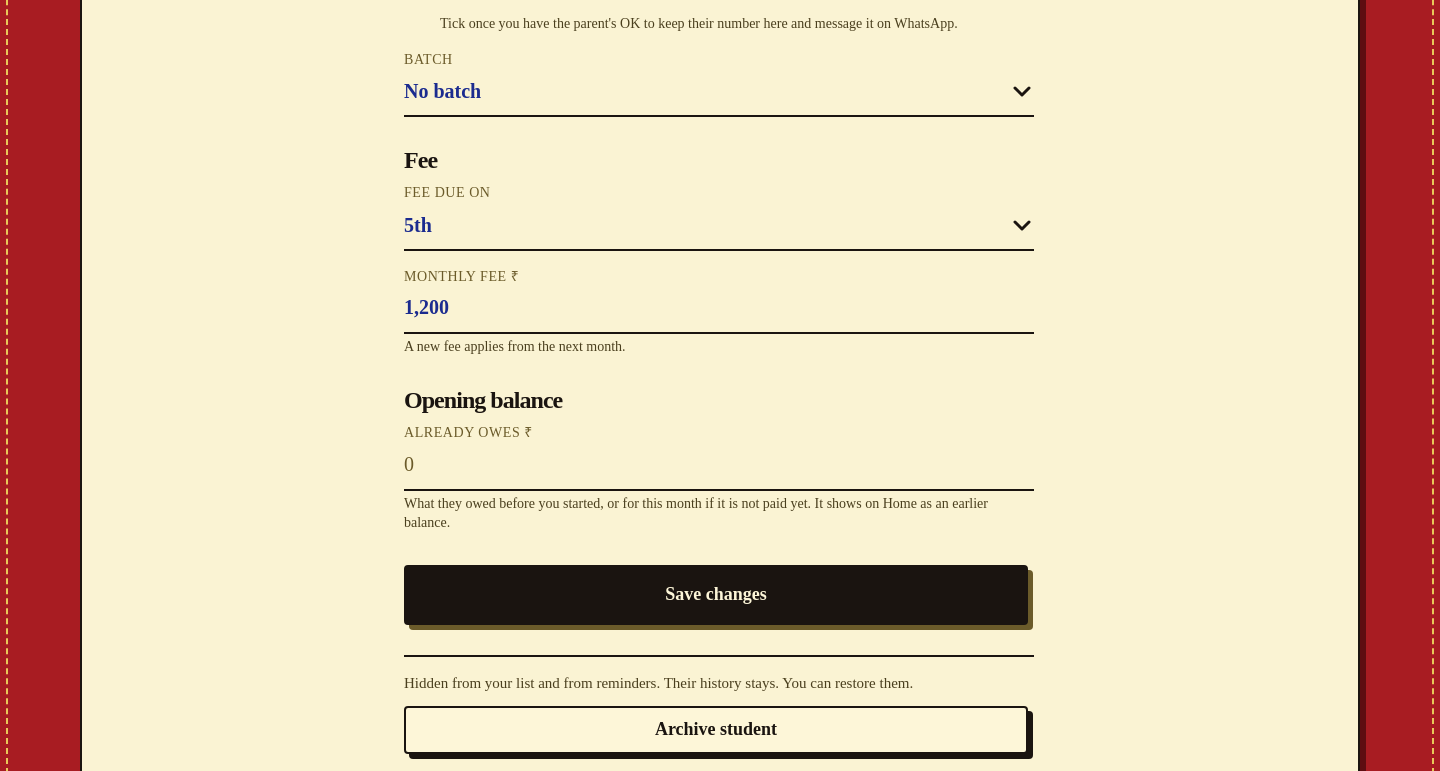
Scenario: archive and restore › says nothing was saved when archiving fails, and stays
(page scrolled)
Click the button "Archive student".
click(716, 730)  # box [404,706,1028,754]
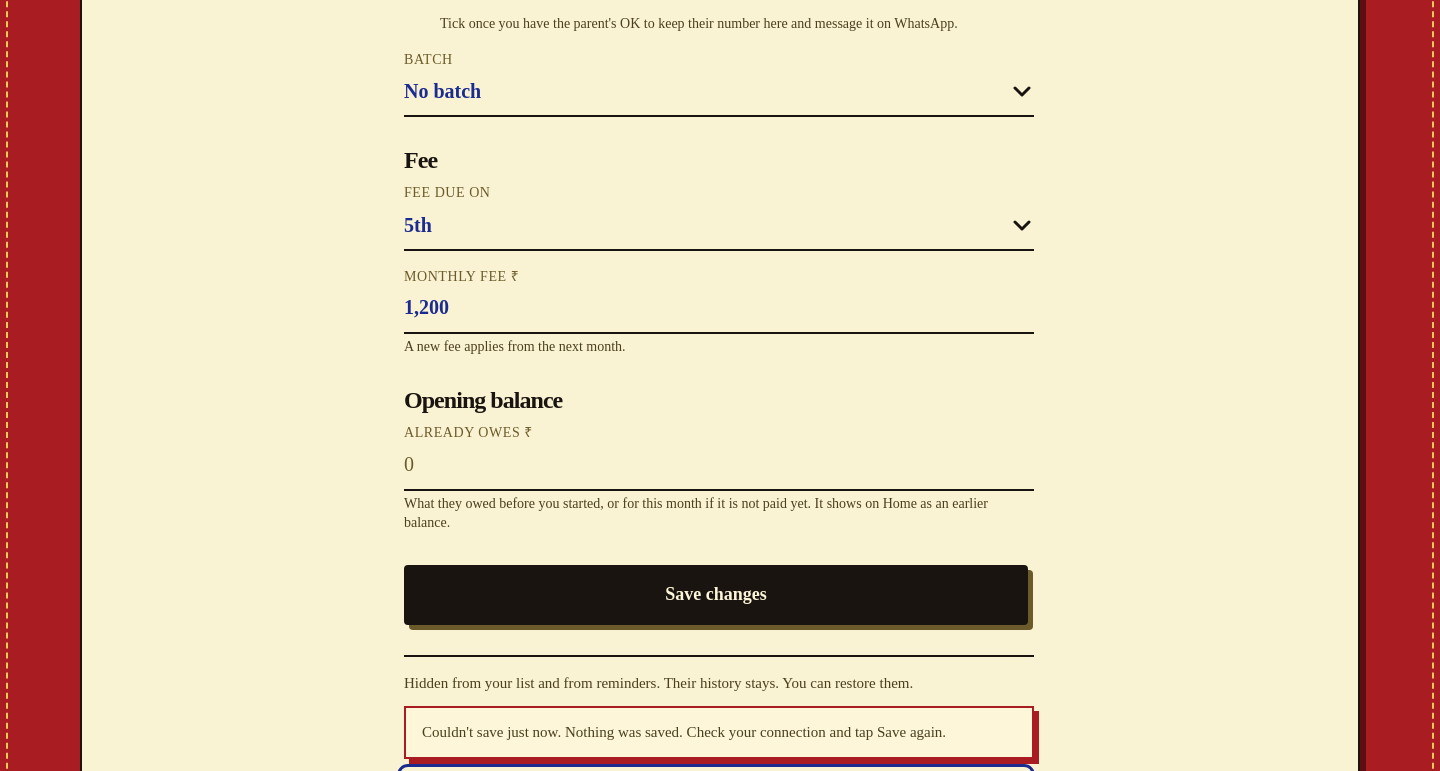
expect the text "Nothing was saved" is shown: met, box [422,724,946,740]
